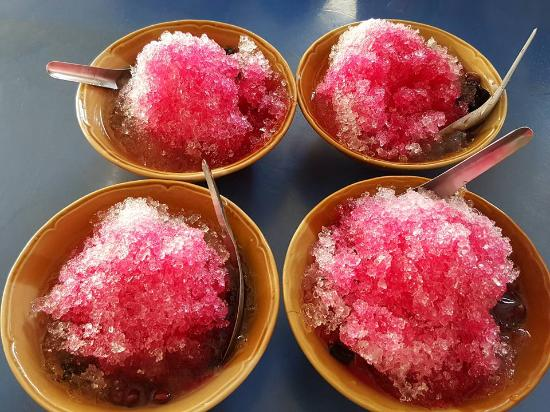O-eo: (292, 170, 548, 412), (9, 181, 266, 407), (296, 4, 532, 177), (72, 20, 297, 175)
